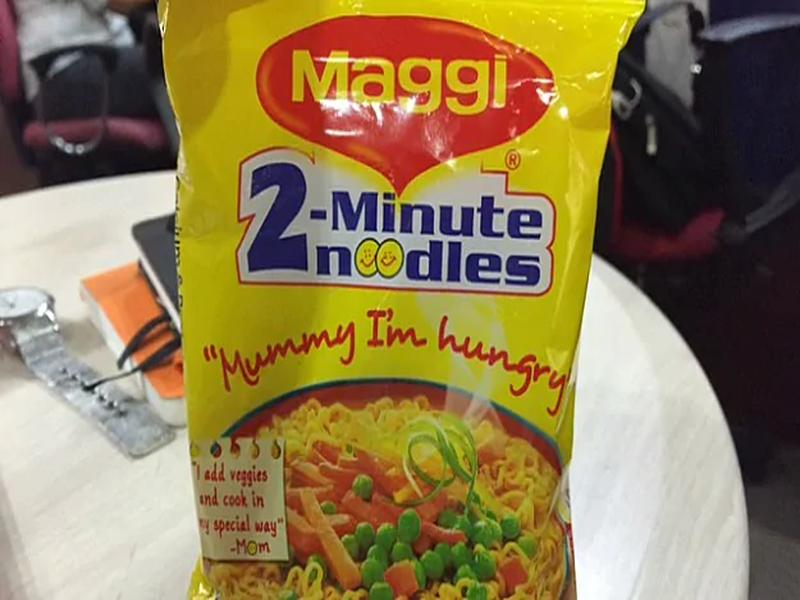maggi-small: (160, 3, 578, 600)
